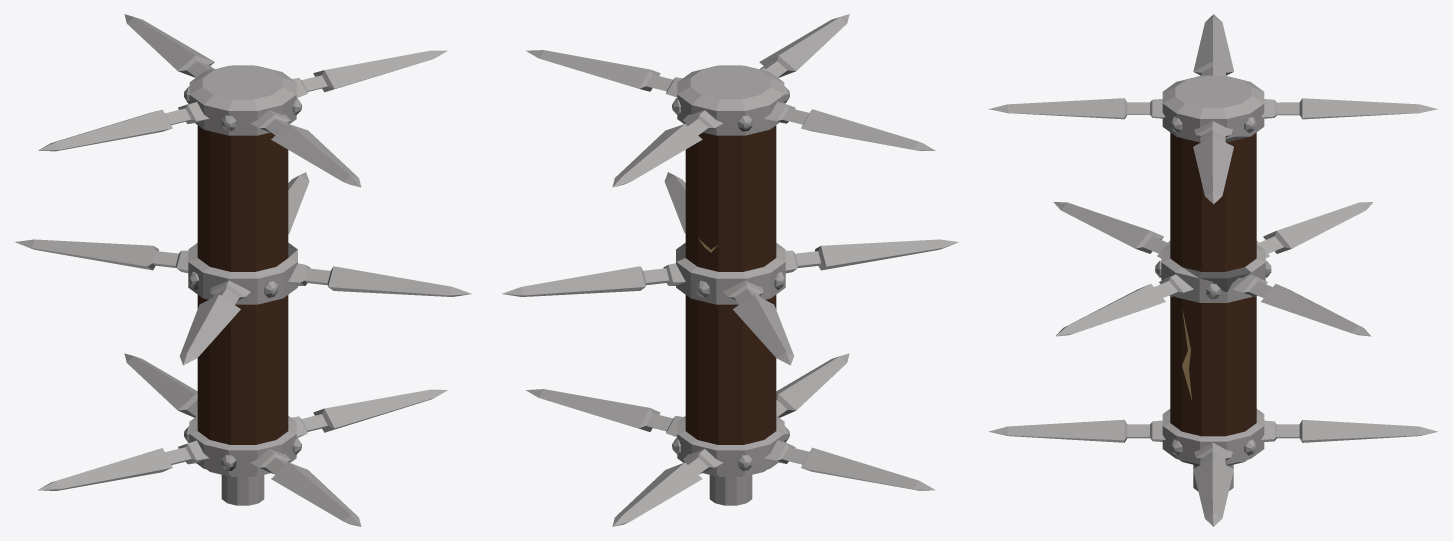
Rendered from LGESpikeSpinning.fbx.
3 views of the same model, side by side, from view 1: azimuth 30°, elevation 25°; view 2: azimuth 150°, elevation 25°; view 3: azimuth 270°, elevation 25° (orthographic). The views are drawn at different scales.
Visible parts, largest first — view 1: LGESpikeSpinning; view 2: LGESpikeSpinning; view 3: LGESpikeSpinning.
Boxes of the visible parts, x1,y1,x2,y2 form: LGESpikeSpinning: [15, 14, 471, 526]; LGESpikeSpinning: [502, 14, 958, 526]; LGESpikeSpinning: [988, 14, 1438, 526].
Size of the model in its own units: 207 by 199 by 207.
